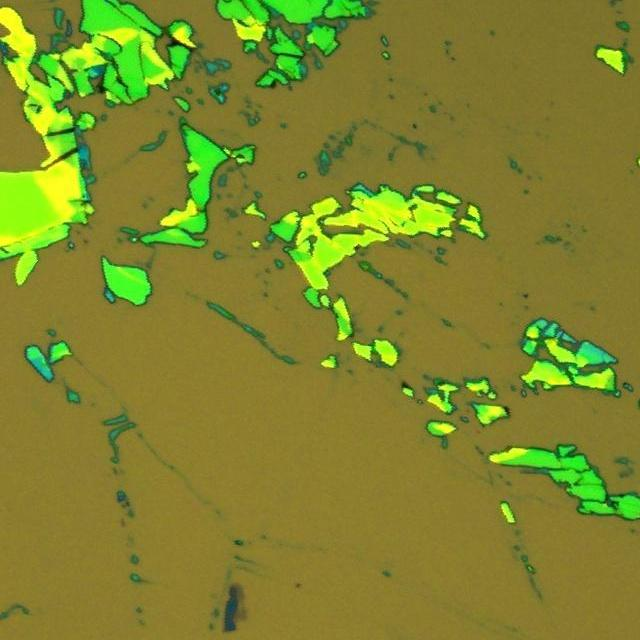monolayer-eWW4: (236, 606, 248, 623), (236, 582, 244, 600)
